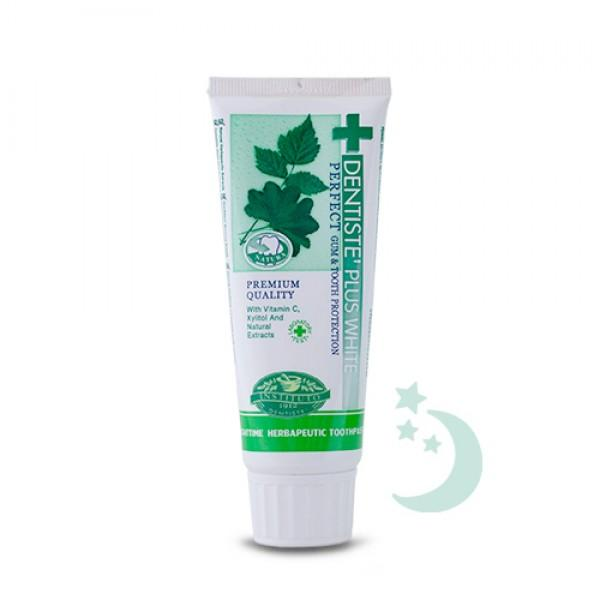toothpaste: (203, 55, 397, 570)
